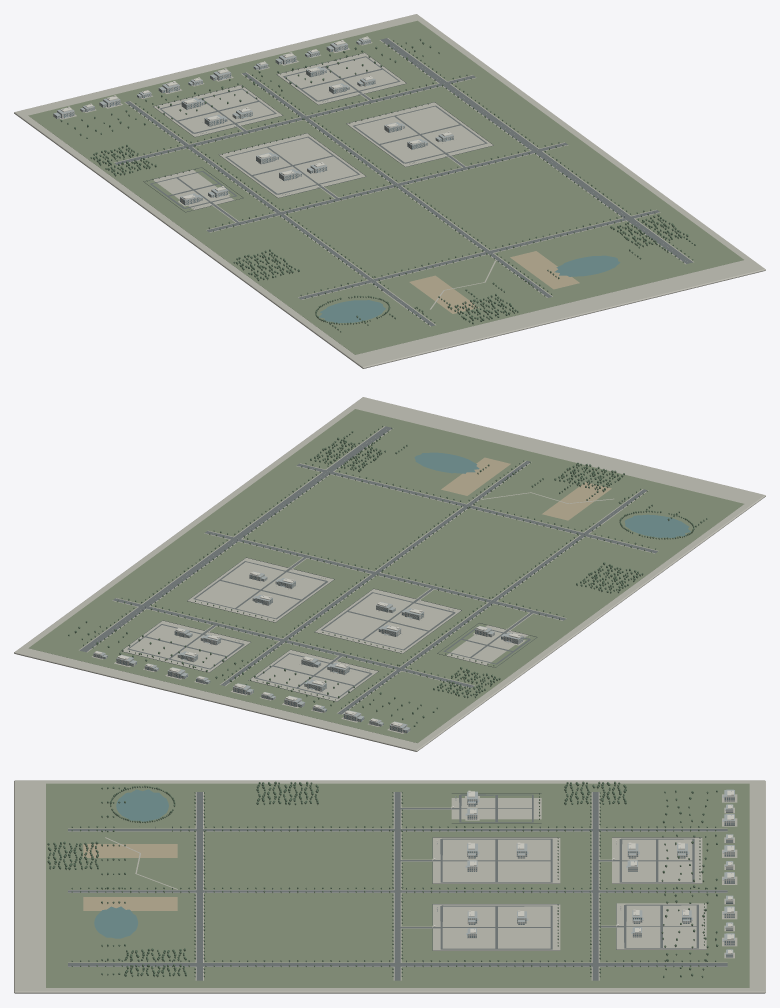
Rendered from RD-complete-v2.glb.
3 renders of one model, top to bottom at view 1: azimuth 30°, elevation 25°; view 2: azimuth 150°, elevation 25°; view 3: azimuth 270°, elevation 25°, orthographic. The views are drawn at different scales.
Visible parts, largest first — view 1: RD_TERRAIN, RD_BASE, RD_C02_YARD, RD_C01_YARD, RD_C04_YARD, RD_C03_YARD, RD_AVENUE_COURT_TREES, RD_PERIPHERAL_WOODS, RD_NS_2, RD_NS_0, RD_NS_1, RD_C05_YARD (+19 smaller); view 2: RD_TERRAIN, RD_BASE, RD_C02_YARD, RD_C01_YARD, RD_C04_YARD, RD_C03_YARD, RD_AVENUE_COURT_TREES, RD_PERIPHERAL_WOODS, RD_NS_2, RD_NS_0, RD_NS_1, RD_C05_YARD (+19 smaller); view 3: RD_TERRAIN, RD_BASE, RD_C01_YARD, RD_C02_YARD, RD_C04_YARD, RD_C03_YARD, RD_AVENUE_COURT_TREES, RD_PERIPHERAL_WOODS, RD_NS_2, RD_NS_1, RD_NS_0, RD_C05_YARD (+23 smaller).
Boxes of the visible parts, bbox=[...] form: RD_TERRAIN: bbox=[28, 20, 743, 354]; RD_BASE: bbox=[14, 14, 765, 368]; RD_C02_YARD: bbox=[347, 102, 493, 166]; RD_C01_YARD: bbox=[219, 133, 365, 197]; RD_C04_YARD: bbox=[277, 53, 406, 104]; RD_C03_YARD: bbox=[153, 85, 282, 136]; RD_AVENUE_COURT_TREES: bbox=[116, 40, 693, 324]; RD_PERIPHERAL_WOODS: bbox=[90, 144, 688, 324]; RD_NS_2: bbox=[380, 38, 692, 263]; RD_NS_0: bbox=[125, 101, 434, 326]; RD_NS_1: bbox=[242, 72, 551, 297]; RD_C05_YARD: bbox=[153, 169, 234, 209]; RD_TERRAIN: bbox=[28, 409, 743, 742]; RD_BASE: bbox=[14, 397, 765, 751]; RD_C02_YARD: bbox=[187, 558, 333, 622]; RD_C01_YARD: bbox=[315, 589, 461, 653]; RD_C04_YARD: bbox=[121, 620, 250, 672]; RD_C03_YARD: bbox=[249, 650, 377, 701]; RD_AVENUE_COURT_TREES: bbox=[83, 426, 694, 710]; RD_PERIPHERAL_WOODS: bbox=[310, 437, 643, 697]; RD_NS_2: bbox=[79, 426, 392, 652]; RD_NS_0: bbox=[337, 489, 647, 714]; RD_NS_1: bbox=[221, 461, 530, 685]; RD_C05_YARD: bbox=[447, 625, 528, 665]; RD_TERRAIN: bbox=[46, 783, 749, 987]; RD_BASE: bbox=[14, 780, 765, 993]; RD_C01_YARD: bbox=[433, 837, 560, 883]; RD_C02_YARD: bbox=[433, 904, 560, 950]; RD_C04_YARD: bbox=[616, 903, 706, 949]; RD_C03_YARD: bbox=[612, 837, 702, 883]; RD_AVENUE_COURT_TREES: bbox=[71, 785, 716, 976]; RD_PERIPHERAL_WOODS: bbox=[47, 781, 626, 976]; RD_NS_2: bbox=[68, 963, 727, 966]; RD_NS_1: bbox=[68, 890, 727, 892]; RD_NS_0: bbox=[68, 829, 727, 831]; RD_C05_YARD: bbox=[451, 798, 541, 819].
Bounding box in the file's own units: 2280 × 44.94 × 3420.
